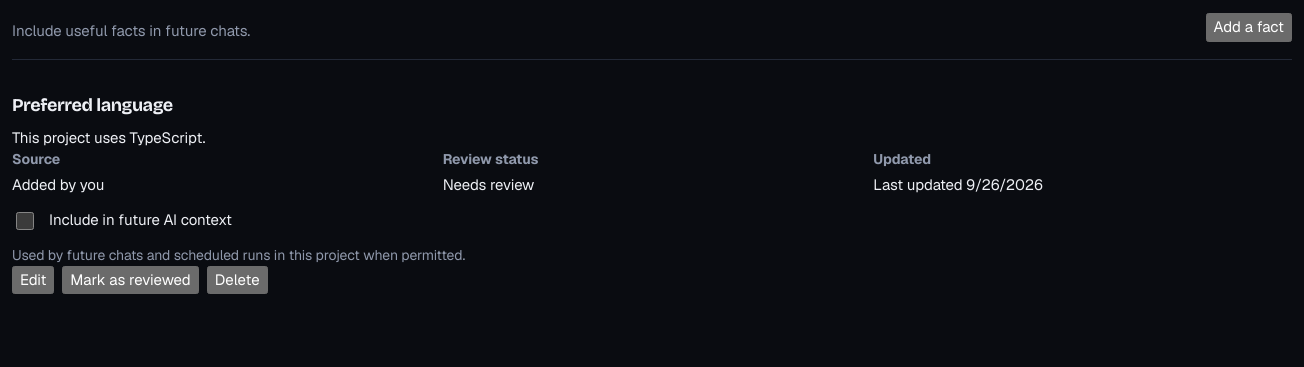
it: ProjectMemoryManager › shows source and server verification state and applies a versioned review
Check: the text "Added by you" is shown, box [12,175,104,194]
Check: the text "Needs review" is shown, box [443,175,534,194]
Click the button "Mark as reviewed" at (130, 280), box [62,266,199,294]
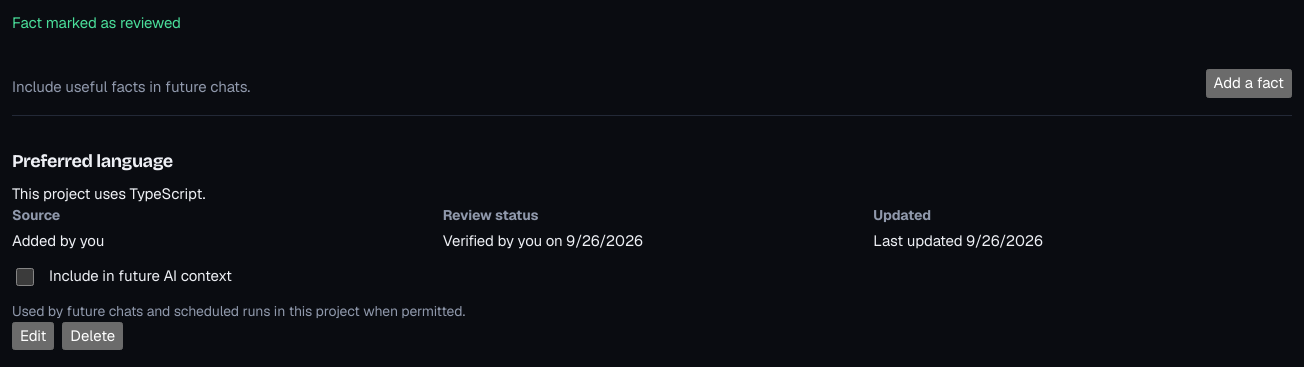
Check: the text "Verified by you on 9/26/2026" is shown, box [443,231,643,250]
